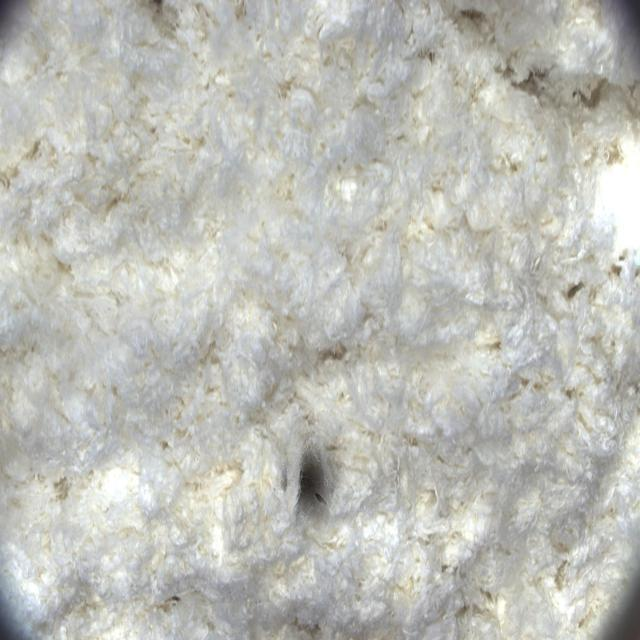dust: (262, 414, 371, 547)
